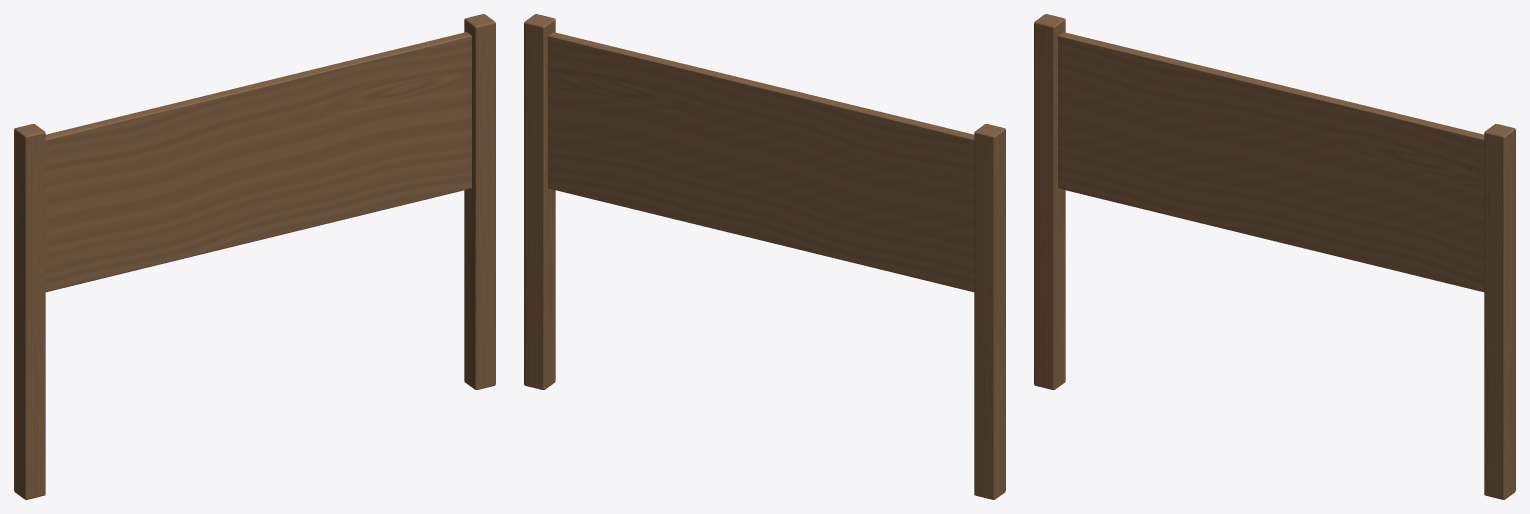
Rendered from RackGuide.fbx.
3 renders of one model, left to right at view 1: azimuth 30°, elevation 25°; view 2: azimuth 150°, elevation 25°; view 3: azimuth 330°, elevation 25°, orthographic.
Visible parts, largest first — view 1: RackGuide; view 2: RackGuide; view 3: RackGuide.
Part boxes in pixels (x1,y1,x2,y2): RackGuide: (14, 14, 495, 499); RackGuide: (524, 14, 1005, 499); RackGuide: (1034, 14, 1515, 499).
Bounding box in the file's own units: 90 × 66.5 × 4.
Materials: 1 (1 with a texture image).
